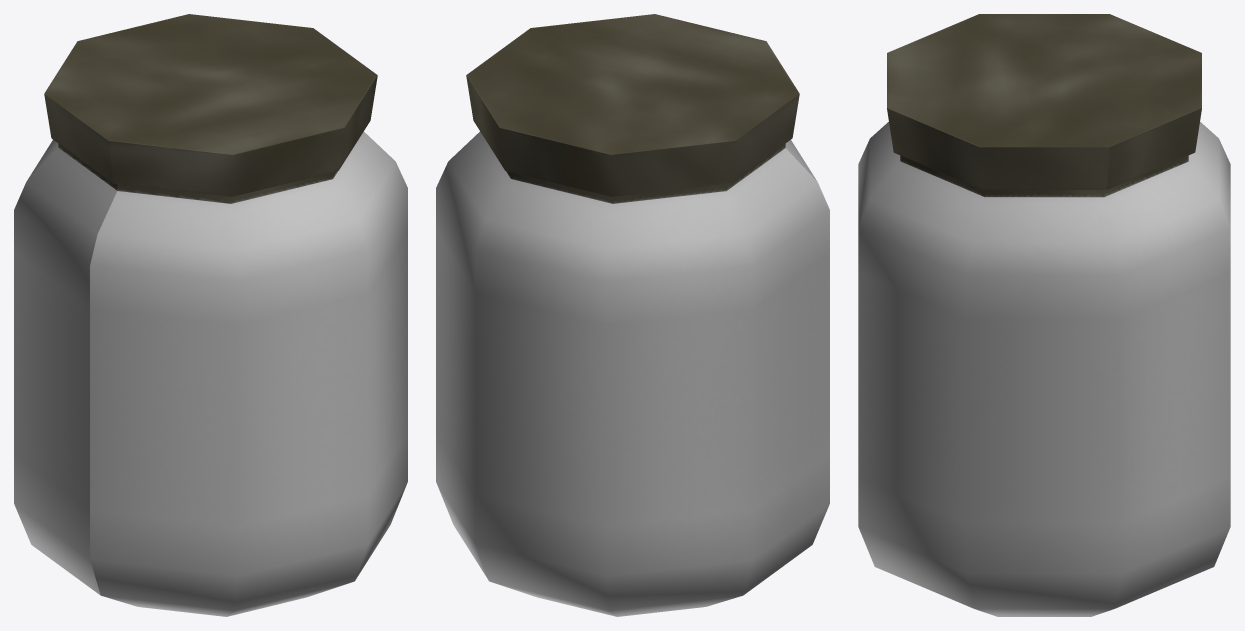
File: BloodJar.fbx
3 views of the same model, side by side, from view 1: azimuth 30°, elevation 25°; view 2: azimuth 150°, elevation 25°; view 3: azimuth 270°, elevation 25° (orthographic).
Visible parts, largest first — view 1: BloodJarGlass, BloodJar; view 2: BloodJarGlass, BloodJar; view 3: BloodJarGlass, BloodJar.
Part boxes in pixels (left/top/right/bottom): BloodJarGlass: left=14, top=131, right=407, bottom=616; BloodJar: left=44, top=14, right=377, bottom=203; BloodJarGlass: left=436, top=131, right=829, bottom=616; BloodJar: left=466, top=14, right=799, bottom=203; BloodJarGlass: left=858, top=122, right=1230, bottom=616; BloodJar: left=887, top=14, right=1201, bottom=196.
Bounding box in the file's own units: 231 × 335 × 231.
